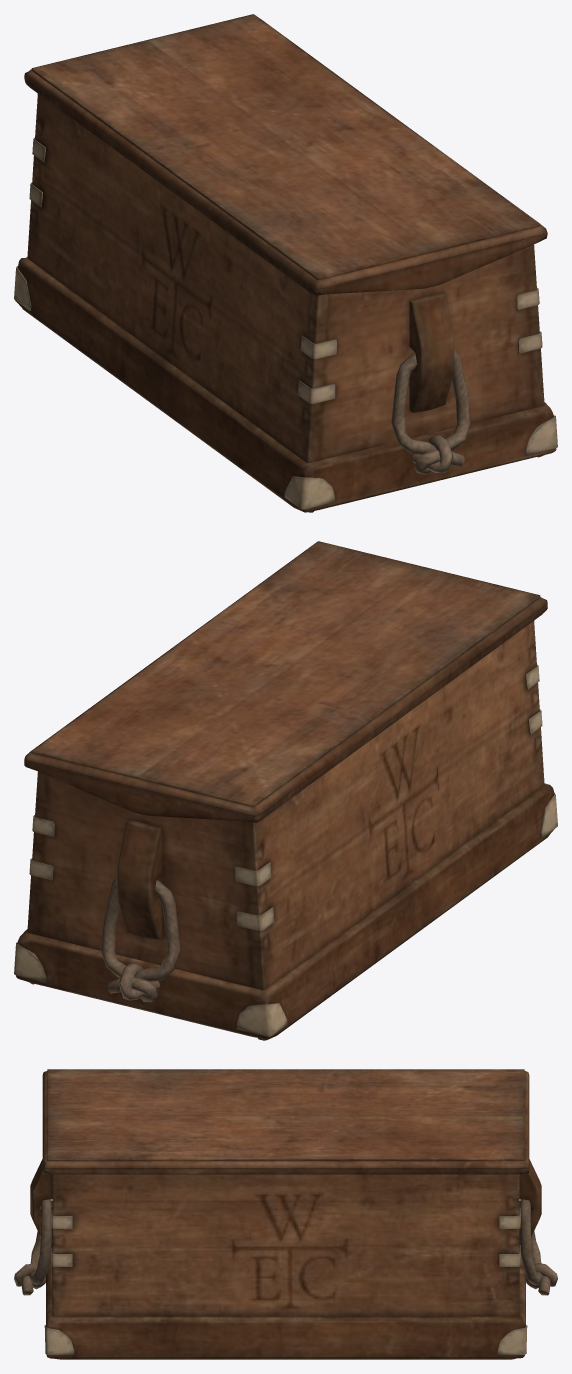
Rendered from ph2_wooden_crate_02.glb.
The picture shows the model from 3 angles, top to bottom: view 1: azimuth 30°, elevation 25°; view 2: azimuth 150°, elevation 25°; view 3: azimuth 270°, elevation 25°; orthographic projection. The views are drawn at different scales.
Size of the model in its own units: 0.5291 by 0.464 by 1.16.
1 material, 1 textured.
